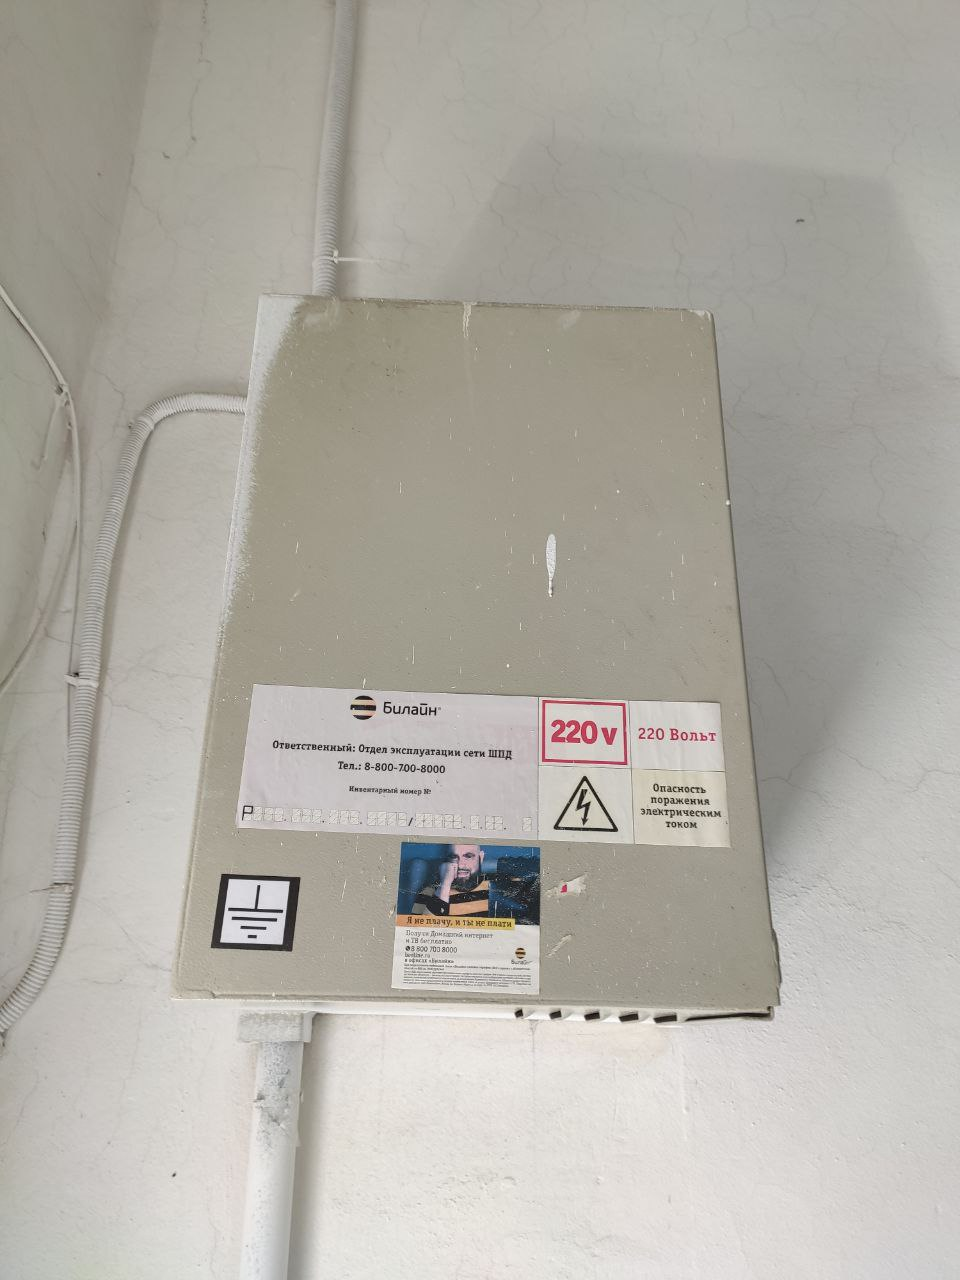sv-5: (162, 283, 789, 1040)
